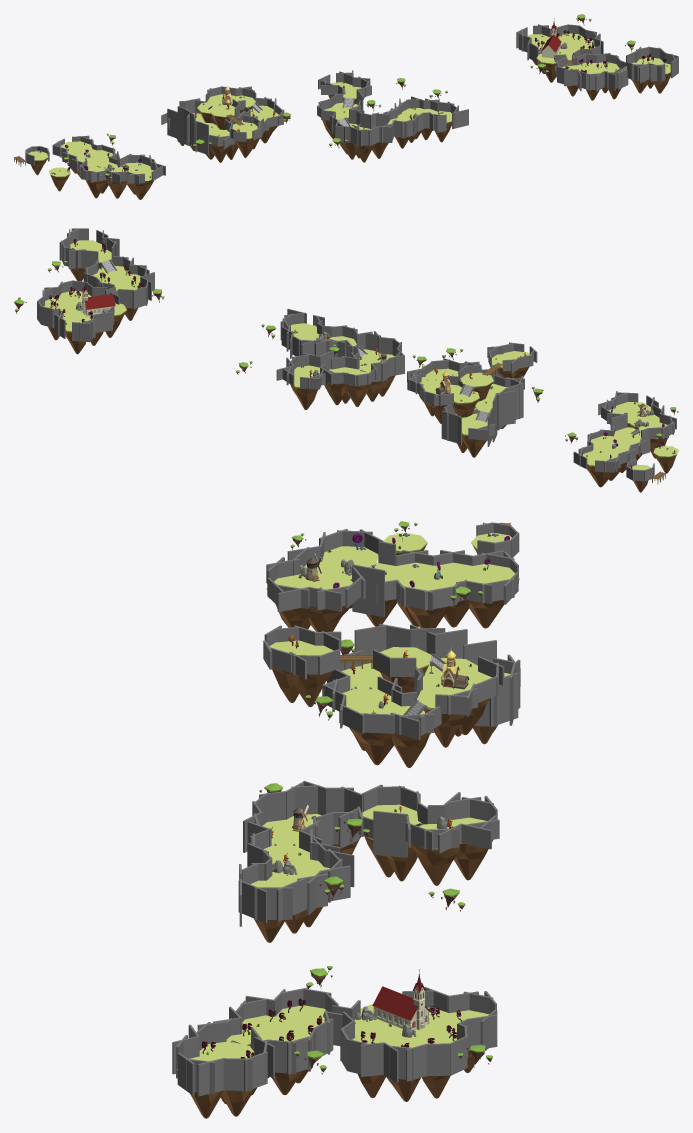
The model's file is floating_islands.glb.
3 views of the same model, one above another, from view 1: azimuth 30°, elevation 25°; view 2: azimuth 150°, elevation 25°; view 3: azimuth 270°, elevation 25° (orthographic). The views are drawn at different scales.
Parts seen in each view (by area): view 1: spawnIsland#O-C# (6), Cube#I-B# (17), spawnIsland#O-M# (17), Church#O-C#, spawnIsland#O-B# (1), spawnIsland#O-B#, Cube#I-B# (7), spawnIsland#O-B# (32), spawnIsland#O-B# (10); view 2: Church#O-C#, spawnIsland#O-B# (1), spawnIsland#O-M# (17), spawnIsland#O-C# (14), Cube#I-B# (9), spawnIsland#O-B#, Cube#I-B# (14), spawnIsland#O-B# (23); view 3: Church#O-C#, spawnIsland#O-B# (1), Cube#I-B# (74), Cube#I-B# (7), spawnIsland#O-M# (12), spawnIsland#O-B# (2), spawnIsland#O-M# (16), spawnIsland#O-B# (10), spawnIsland#O-M# (24), spawnIsland#O-C# (6), spawnIsland#O-B# (23), Cube#I-B# (10) (+5 smaller).
Boxes of the visible parts, left/top/right/bottom form: spawnIsland#O-C# (6): left=128, top=167, right=153, bottom=199; Cube#I-B# (17): left=194, top=120, right=208, bottom=154; spawnIsland#O-M# (17): left=209, top=104, right=235, bottom=129; Church#O-C#: left=541, top=18, right=561, bottom=58; spawnIsland#O-B# (1): left=61, top=141, right=92, bottom=173; spawnIsland#O-B#: left=49, top=167, right=70, bottom=191; Cube#I-B# (7): left=177, top=106, right=191, bottom=146; spawnIsland#O-B# (32): left=536, top=54, right=559, bottom=82; spawnIsland#O-B# (10): left=250, top=111, right=278, bottom=143; Church#O-C#: left=81, top=282, right=115, bottom=316; spawnIsland#O-B# (1): left=583, top=450, right=617, bottom=487; spawnIsland#O-M# (17): left=460, top=372, right=493, bottom=401; spawnIsland#O-C# (14): left=452, top=391, right=479, bottom=417; Cube#I-B# (9): left=441, top=410, right=458, bottom=443; spawnIsland#O-B#: left=653, top=446, right=678, bottom=473; Cube#I-B# (14): left=497, top=391, right=515, bottom=424; spawnIsland#O-B# (23): left=290, top=376, right=317, bottom=409; Church#O-C#: left=372, top=969, right=430, bottom=1030; spawnIsland#O-B# (1): left=452, top=564, right=519, bottom=628; Cube#I-B# (74): left=373, top=810, right=407, bottom=857; Cube#I-B# (7): left=352, top=564, right=384, bottom=617; spawnIsland#O-M# (12): left=417, top=685, right=467, bottom=747; spawnIsland#O-B# (2): left=420, top=562, right=471, bottom=627; spawnIsland#O-M# (16): left=284, top=645, right=333, bottom=707; spawnIsland#O-B# (10): left=349, top=702, right=407, bottom=765; spawnIsland#O-M# (24): left=411, top=824, right=460, bottom=885; spawnIsland#O-C# (6): left=266, top=574, right=333, bottom=628; spawnIsland#O-B# (23): left=447, top=817, right=492, bottom=880; Cube#I-B# (10): left=489, top=672, right=518, bottom=726.
Size of the model in its own units: 594 by 70.6 by 153.
Materials: 22 (12 with a texture image).
